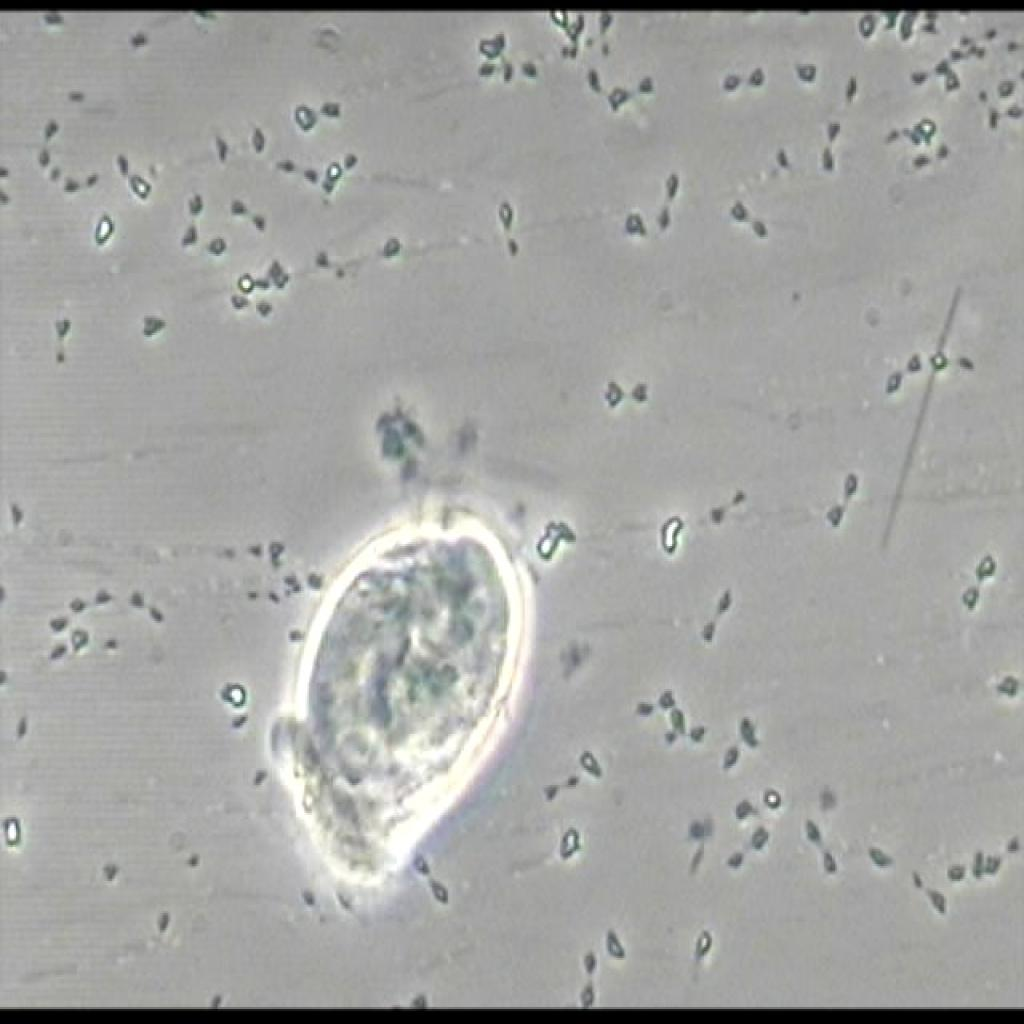Chilodonella: (222, 486, 548, 924)
